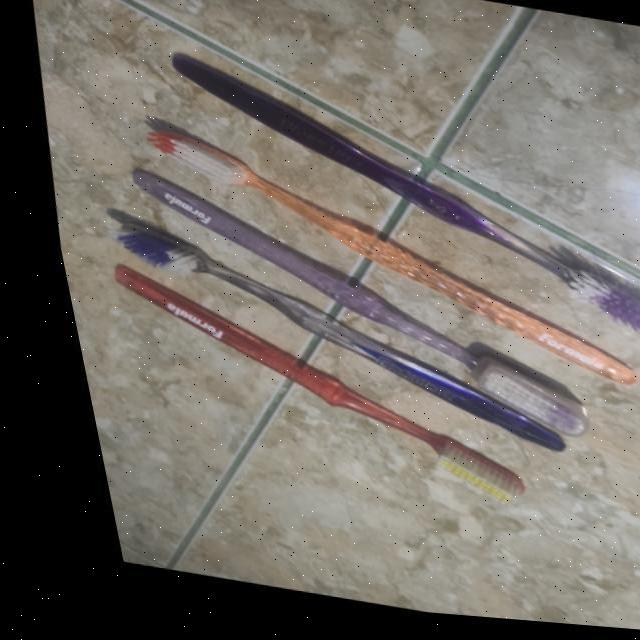toothbrush: (131, 106, 640, 402), (146, 42, 640, 343), (105, 160, 580, 442), (88, 222, 591, 472), (91, 266, 530, 517)
